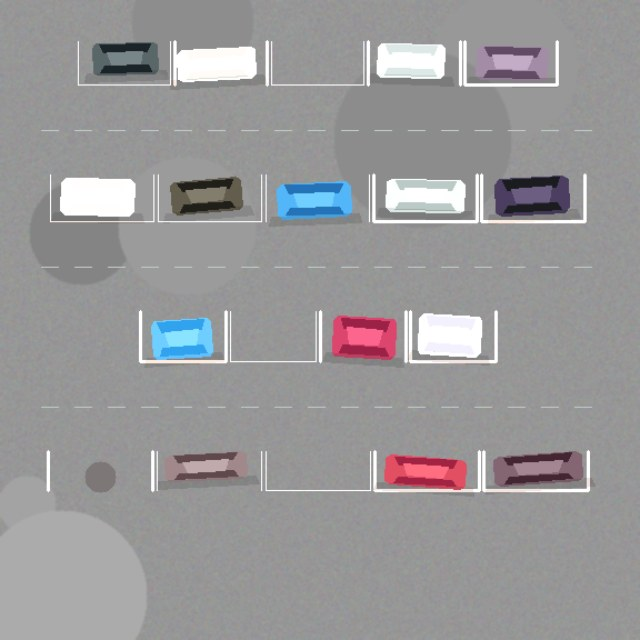space-empty: (230, 311, 316, 361), (48, 451, 152, 490), (266, 451, 370, 490), (271, 41, 363, 84)
space-occupied: (373, 174, 477, 221), (50, 174, 153, 221), (158, 174, 261, 221), (266, 174, 369, 221), (481, 174, 584, 221), (140, 311, 226, 361), (320, 311, 406, 361), (410, 311, 496, 361), (374, 451, 479, 490), (483, 451, 588, 490), (157, 451, 261, 490), (174, 41, 267, 84), (464, 41, 557, 84), (78, 41, 170, 84), (368, 41, 460, 84)
